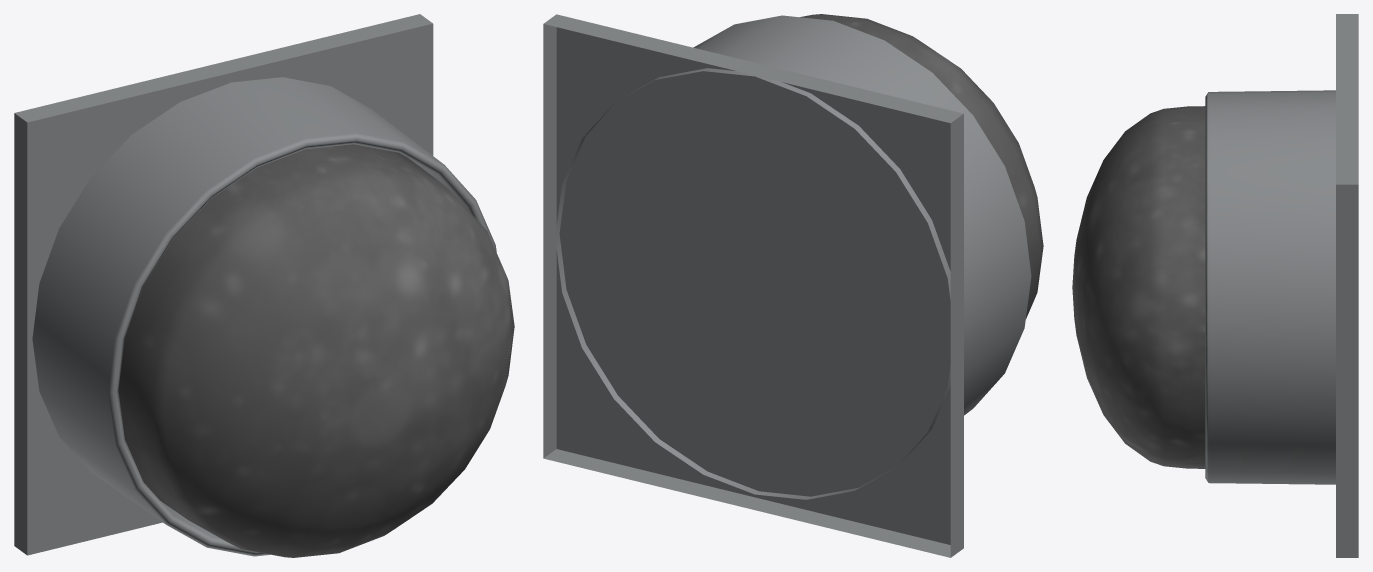
Rendered from button.fbx.
3 renders of one model, left to right at view 1: azimuth 30°, elevation 25°; view 2: azimuth 150°, elevation 25°; view 3: azimuth 270°, elevation 25°, orthographic. The views are drawn at different scales.
Parts seen in each view (by area): view 1: button_press, button; view 2: button, button_press; view 3: button, button_press.
Boxes of the visible parts, left/top/right/bottom form: button_press: left=118, top=144, right=514, bottom=557; button: left=14, top=14, right=496, bottom=556; button: left=543, top=14, right=1031, bottom=557; button_press: left=800, top=14, right=1043, bottom=319; button: left=1205, top=14, right=1358, bottom=557; button_press: left=1072, top=106, right=1205, bottom=468.
Bounding box in the file's own units: 0.2448 × 0.2496 × 0.1735.
